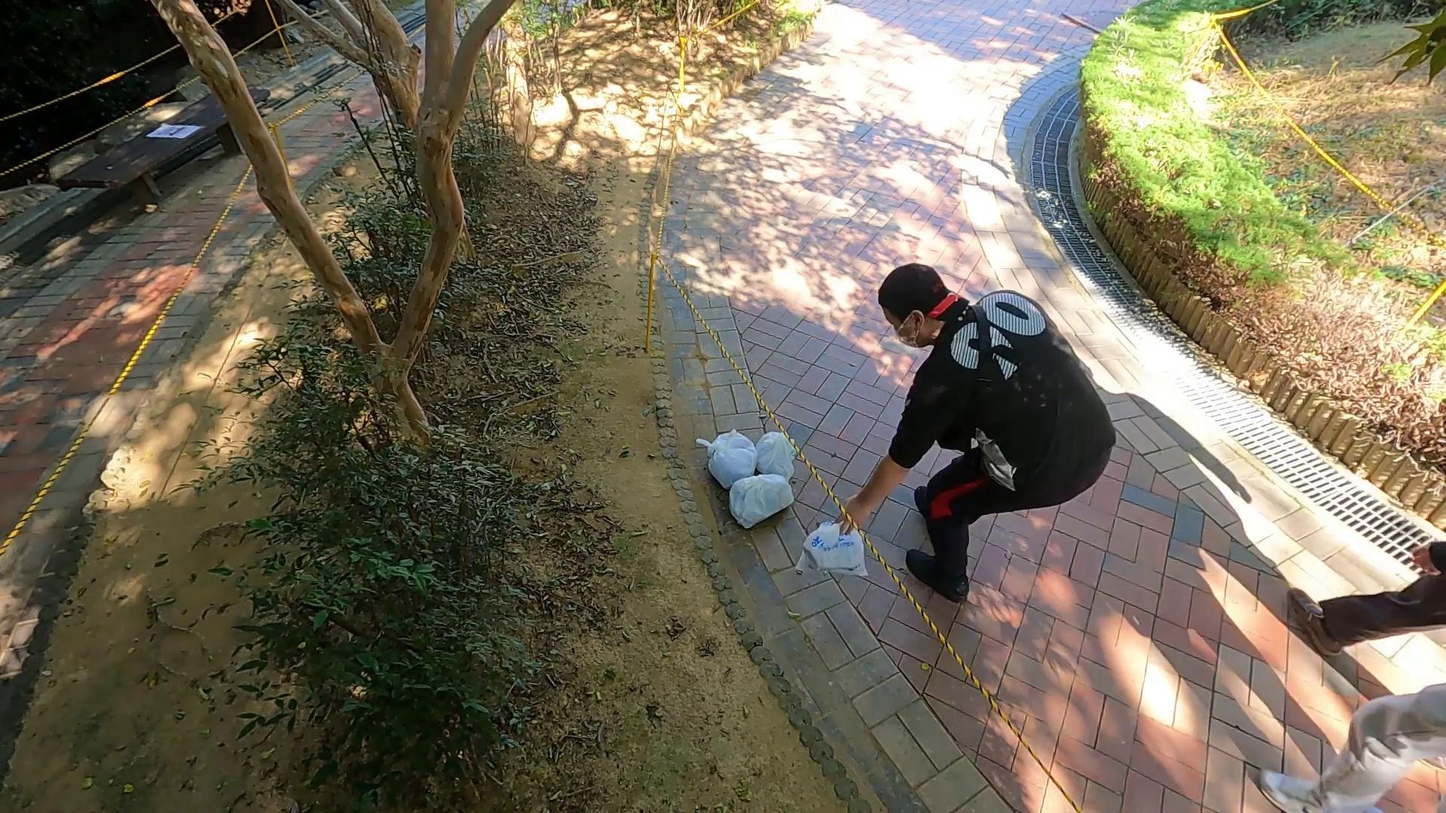person: (829, 263, 1117, 603), (1259, 682, 1446, 813), (1287, 540, 1446, 660)
trash: (800, 521, 867, 582), (728, 474, 795, 529), (696, 430, 760, 485), (753, 428, 799, 480)
